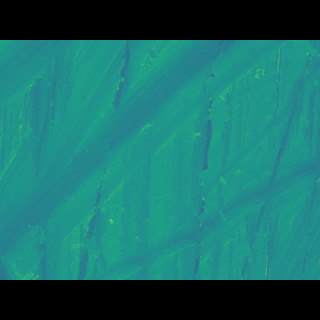Loch: (0, 69, 290, 250)
